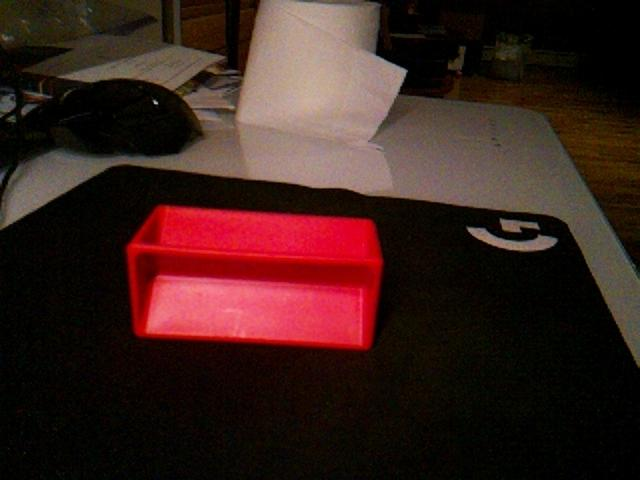red: (125, 202, 385, 352)
